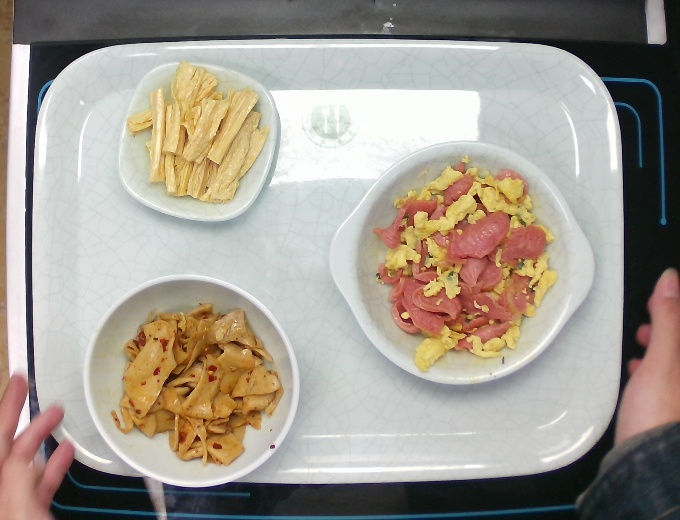JYsf-Fan_Wan: (77, 269, 315, 491)
JYsf-Shuang_Er_Wan: (323, 131, 605, 391)
JYsf-Si_Fang_Die: (106, 46, 287, 232)
